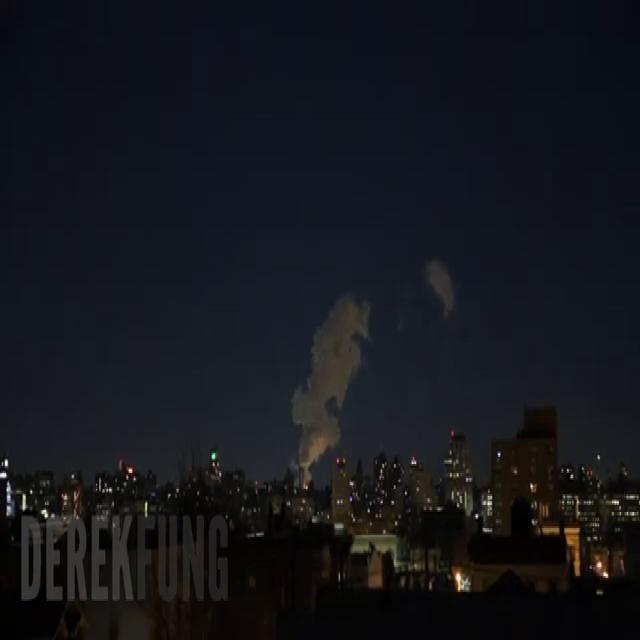smoke: (291, 293, 368, 428)
